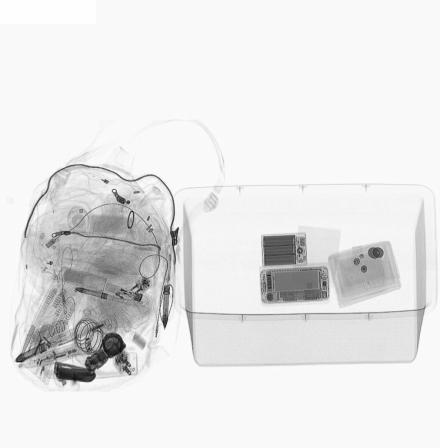Lighter: (103, 281, 146, 304)
